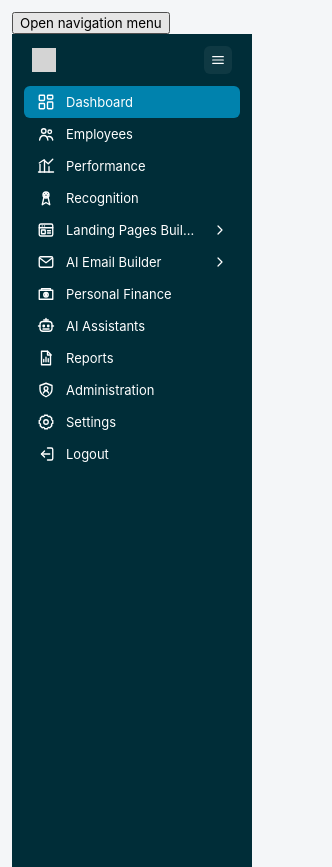
Test: AppSidebar AI Email Builder navigation › expands the group on click and shows Email Dashboard with the correct route
The image size is (332, 867).
Click the button "AI Email Builder": {"x": 132, "y": 262} [24,246,240,278]
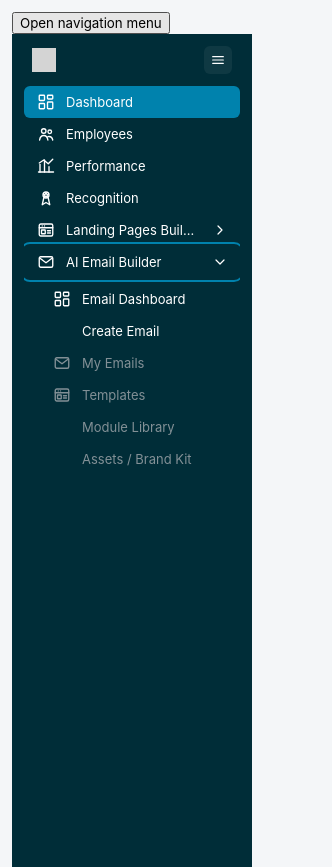
Now the button "AI Email Builder" is expanded, box [24,246,240,278]
